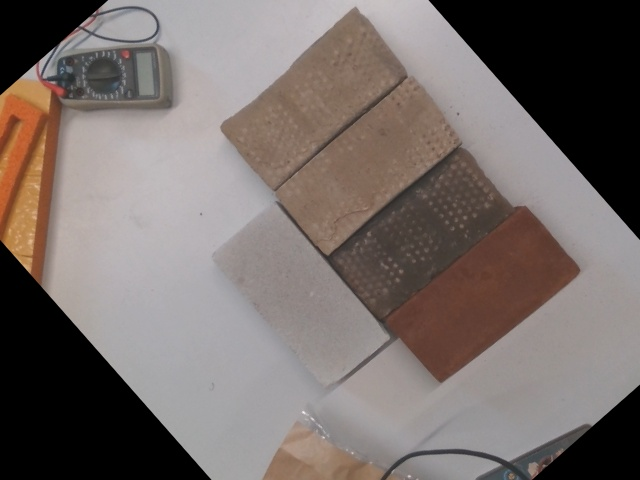brick: (389, 207, 577, 384), (220, 10, 408, 184), (212, 202, 386, 390), (274, 79, 461, 252), (330, 150, 513, 320)
